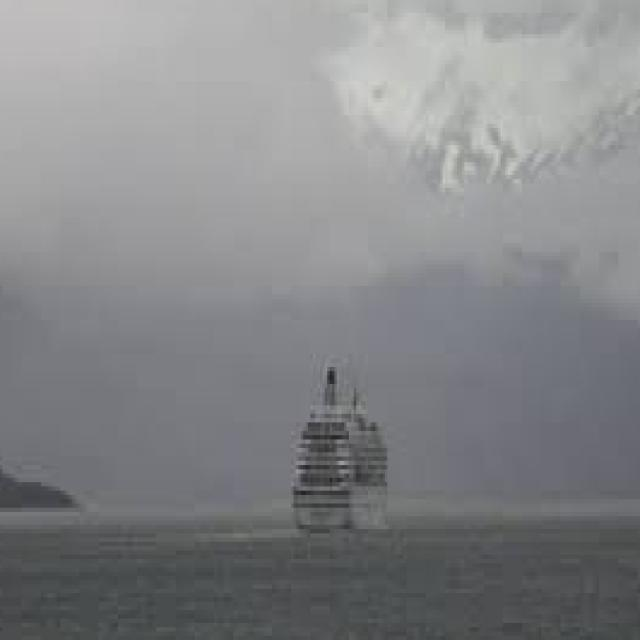passenger ship: (293, 358, 402, 532)
